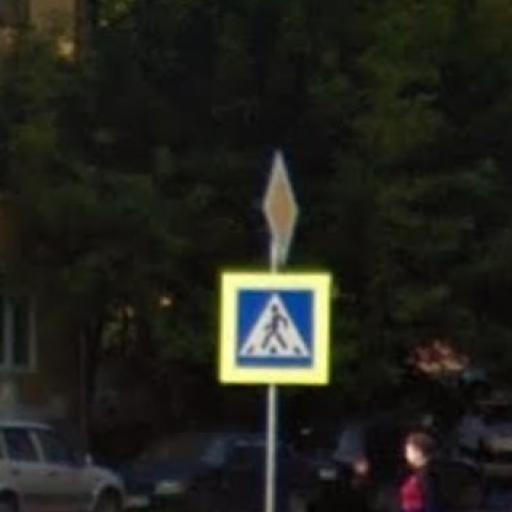traffic_sign: (219, 272, 331, 387), (257, 148, 301, 267)
